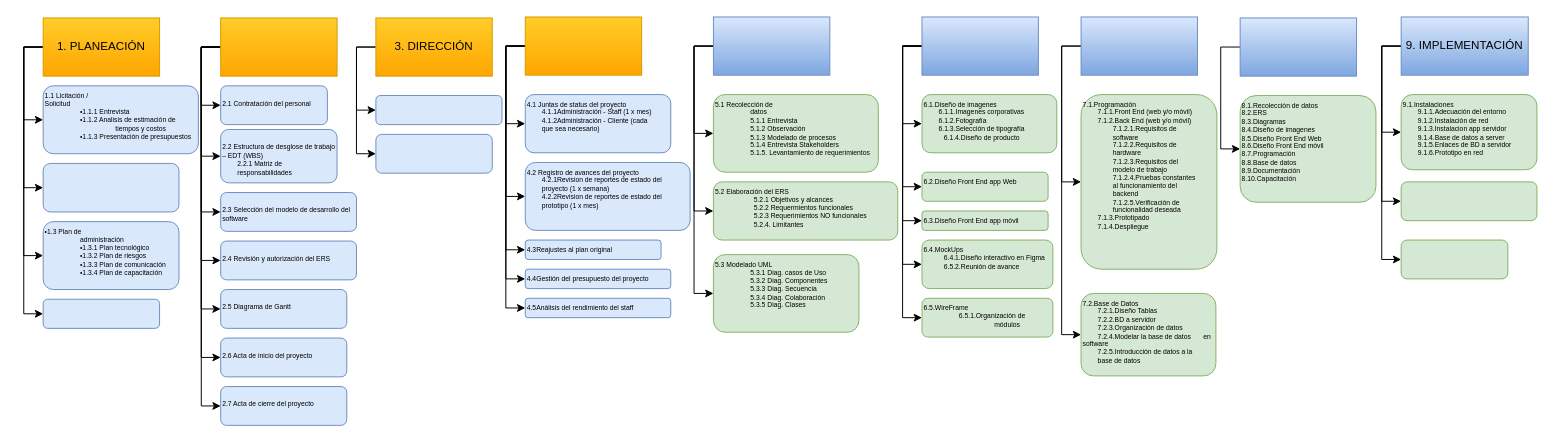
Some shapes in this 1554 by 442 pixel diagram are drawn without their labels. Each missing label, with the centre of its shape:
"2. ORGANIZACIÓN" belongs at point 278,46.
"3.1 Implementacio del modelo de desarrollo del software" belongs at point 438,110.
"3.2 Juntas de trabajo con staff (cada que se requiera)" belongs at point 433,153.
"4. CONTROL" belongs at point 583,45.
"5. ANÁLISIS" belongs at point 771,45.
"6. DISEÑO" belongs at point 979,45.
"7. CODIFICACIÓN" belongs at point 1138,45.
"8. PRUEBAS" belongs at point 1298,46.
"9.2.Capacitación 9.2.1.Elaboración de curso 9.2.2.Capacitación de usuarios" belongs at point 1468,201.
"9.3.Juntas de estado 9.3.Clientes-Staff 1 9.4.Staff - Directivos" belongs at point 1454,259.
"• 1.2 Aceptación del presupuesto • 1.2.1 Contratos, clausulas y penalizaciones" belongs at point 110,187.
"• 1.4 Adquisición de moviliario y equipo" belongs at point 101,313.
